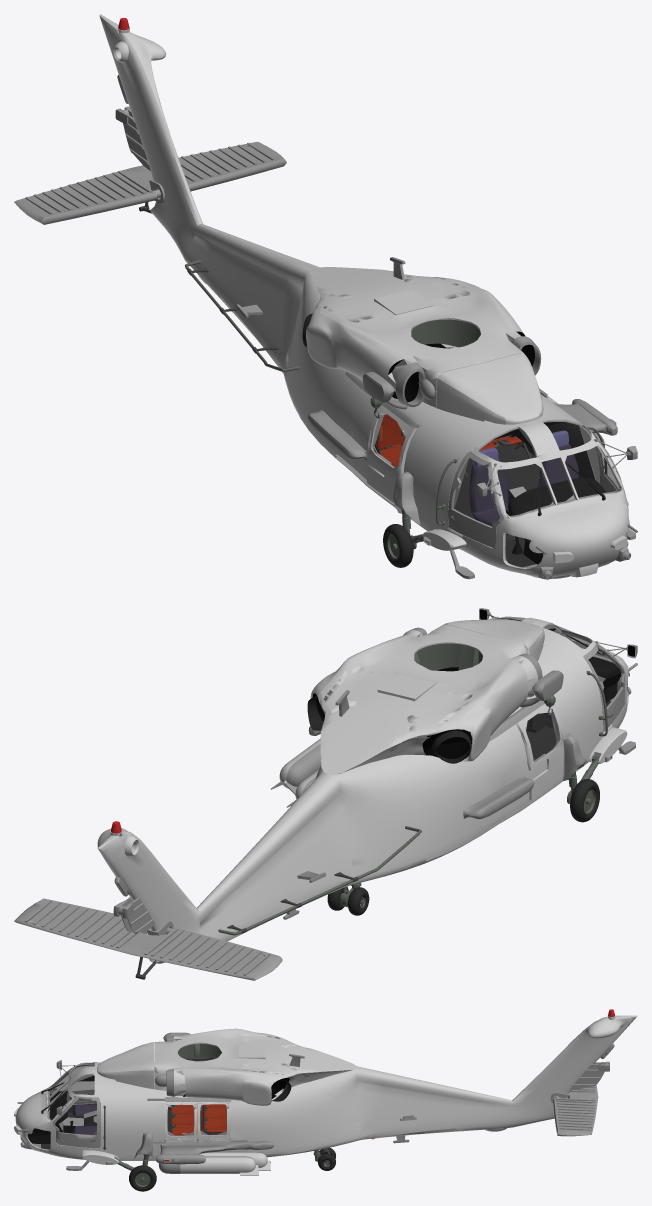
Rendered from seahawk_body.obj.
3 views of the same model, one above another, from view 1: azimuth 30°, elevation 25°; view 2: azimuth 150°, elevation 25°; view 3: azimuth 270°, elevation 25° (orthographic). The views are drawn at different scales.
Size of the model in its own units: 59.27 by 54.89 by 195.
